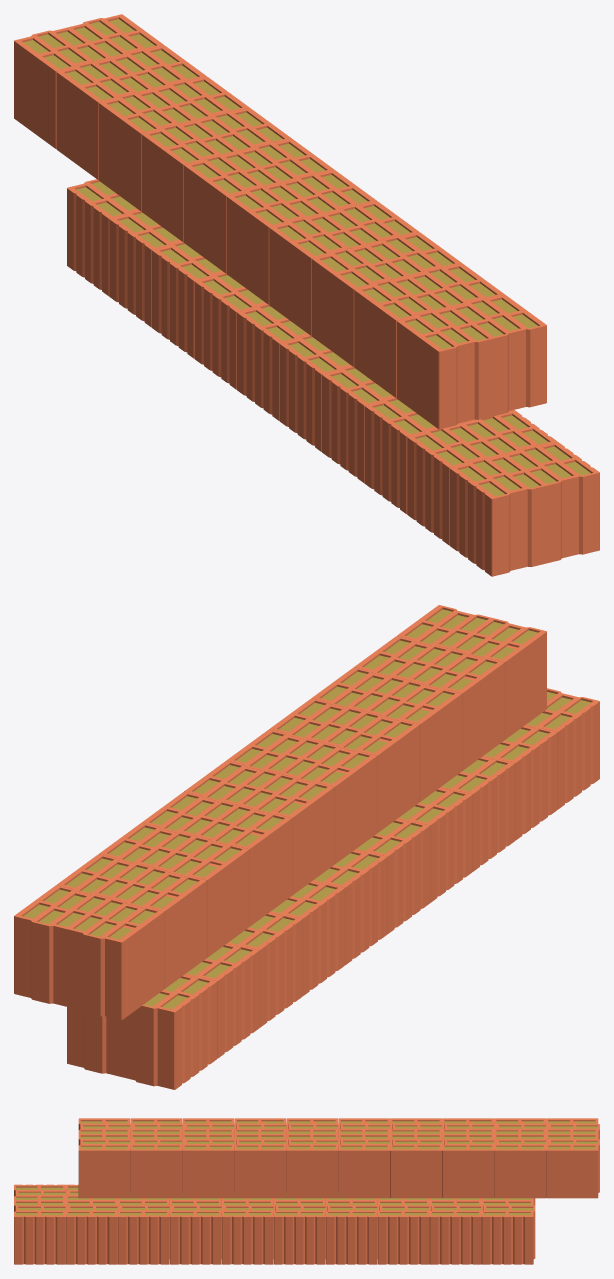
The picture shows the model from 3 angles, top to bottom: view 1: azimuth 30°, elevation 25°; view 2: azimuth 150°, elevation 25°; view 3: azimuth 270°, elevation 25°; orthographic projection. The views are drawn at different scales.
Visible parts, largest first — view 1: Außenziegel template.001, Außenziegel template.003; view 2: Außenziegel template.001, Außenziegel template.003; view 3: Außenziegel template.001, Außenziegel template.003.
Part boxes in pixels (x1,y1,x2,y2): Außenziegel template.001: (14,14,546,429); Außenziegel template.003: (67,179,599,576); Außenziegel template.001: (14,605,546,1019); Außenziegel template.003: (67,688,599,1089); Außenziegel template.001: (78,1118,599,1198); Außenziegel template.003: (14,1184,535,1264).
Size of the model in its own units: 0.3653 by 0.5994 by 2.8.
